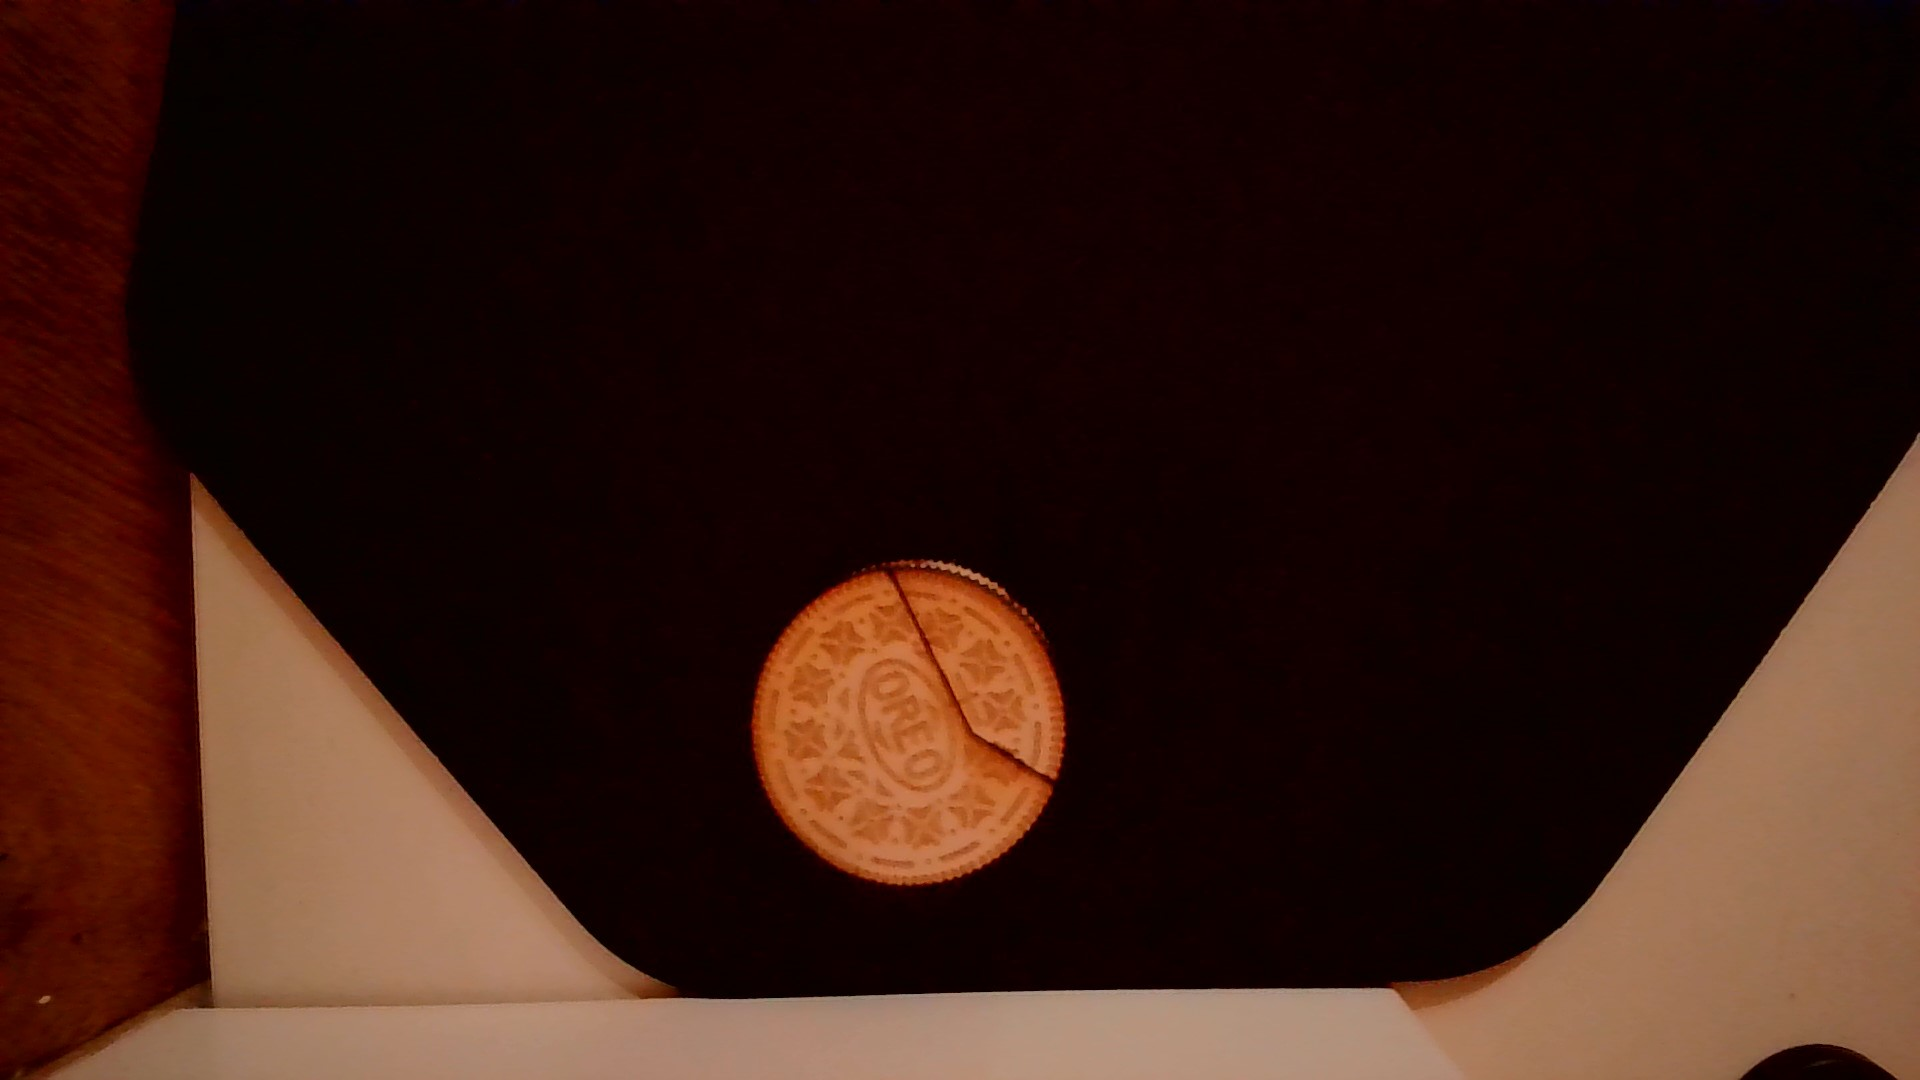Fissure: (874, 545, 1071, 793)
Oréo: (742, 551, 1069, 890)
